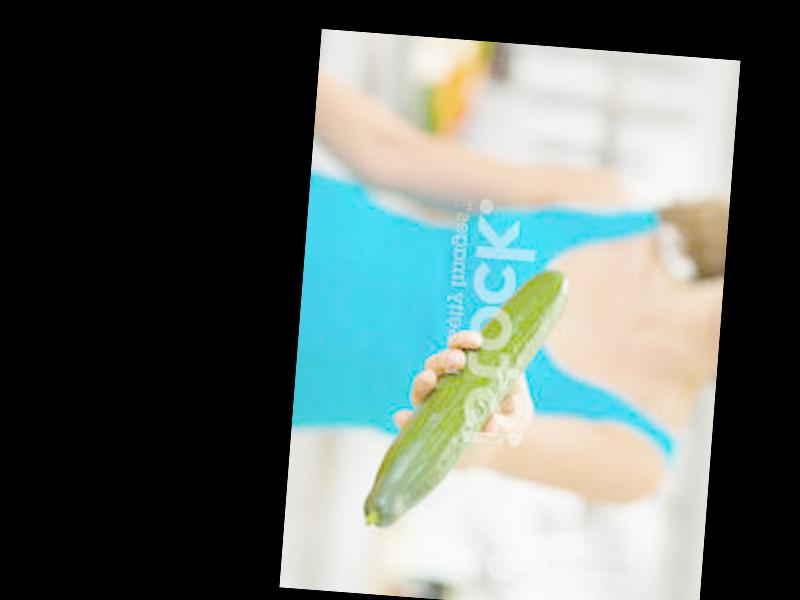Cucumber: (361, 255, 569, 539)
